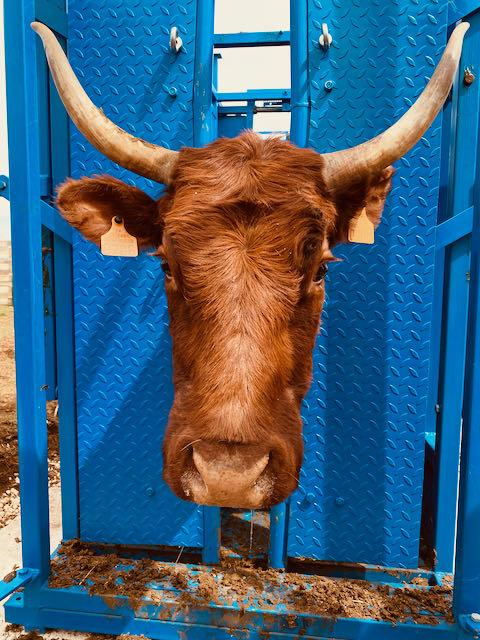muzzles: (163, 422, 298, 517)
